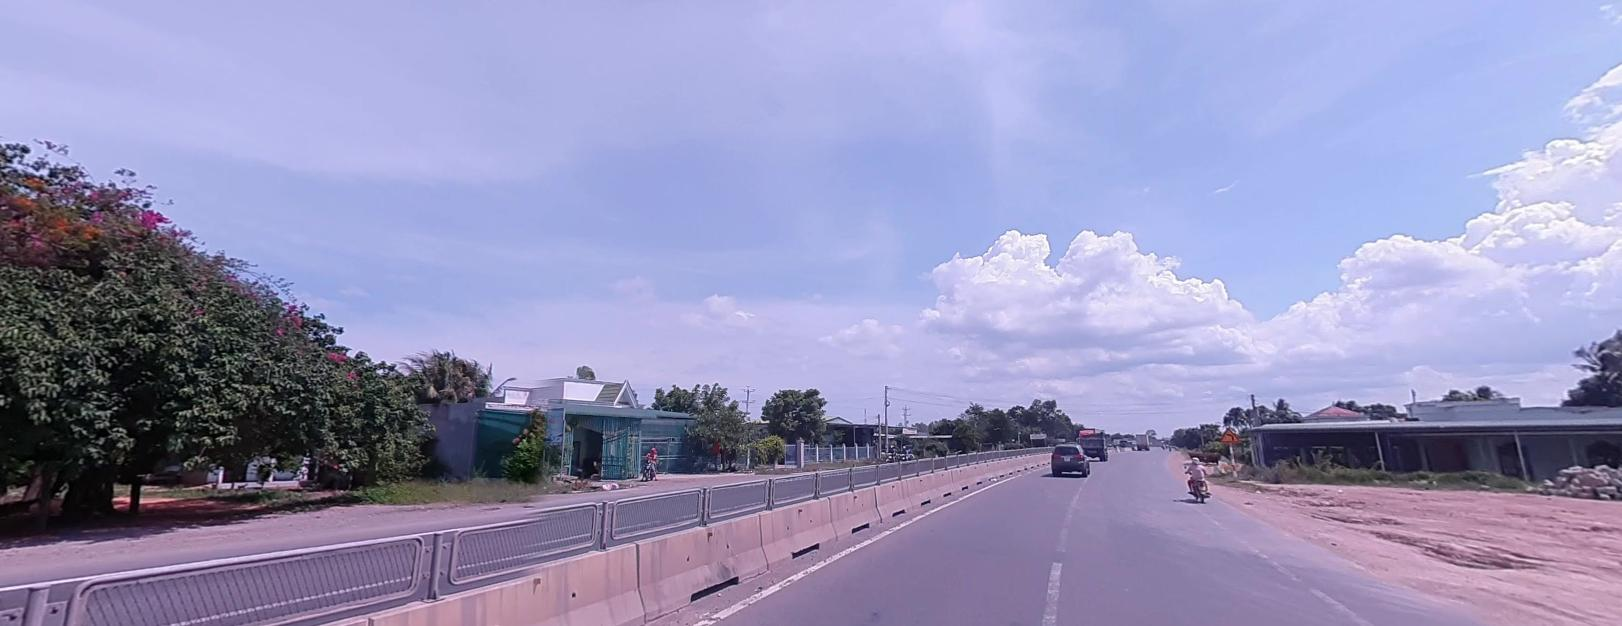Nguy hiem: (1220, 427, 1241, 442)
